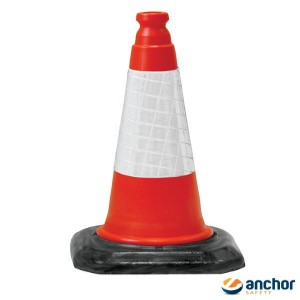traffic cone: (70, 11, 246, 274)
